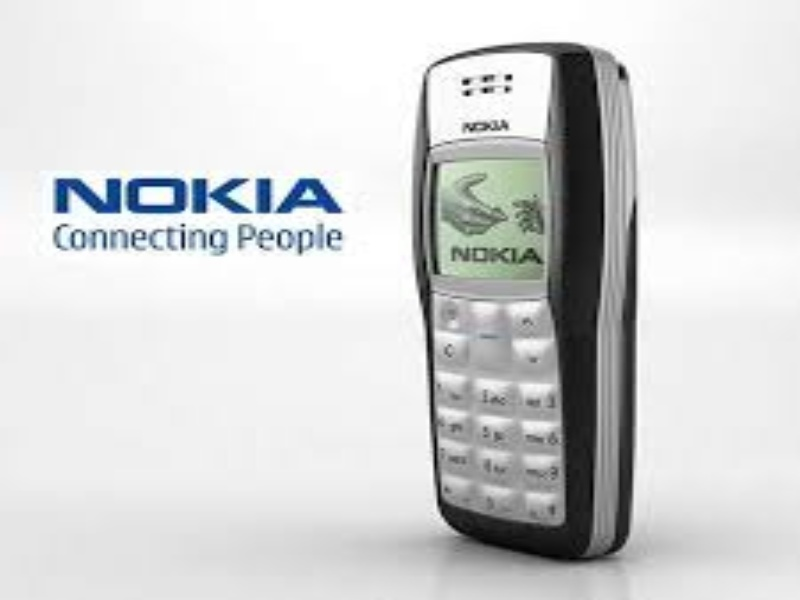mobile: (400, 21, 656, 581)
